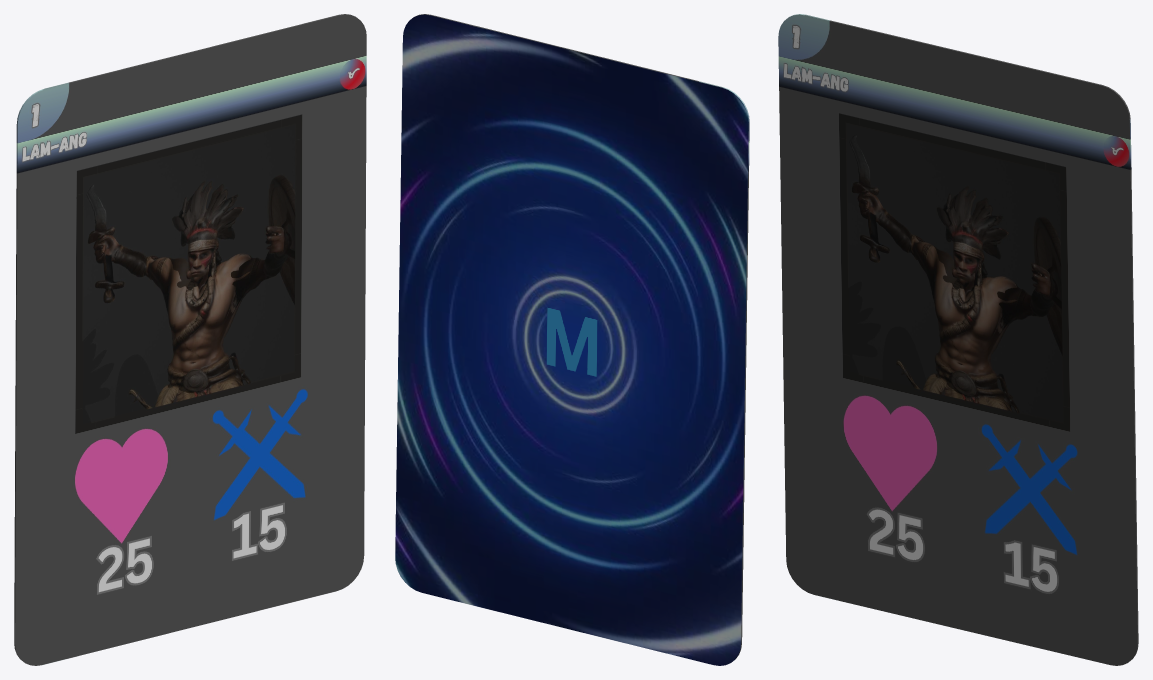
File: Lam-Ang.glb
The picture shows the model from 3 angles, left to right: view 1: azimuth 30°, elevation 25°; view 2: azimuth 150°, elevation 25°; view 3: azimuth 330°, elevation 25°; orthographic projection.
Parts seen in each view (by area): view 1: Card; view 2: Card; view 3: Card.
Part boxes in pixels (x1=…): Card: x1=14, y1=14, x2=366, y2=665; Card: x1=395, y1=14, x2=749, y2=665; Card: x1=778, y1=14, x2=1138, y2=665.
Bounding box in the file's own units: 0.0564 × 0.0891 × 0.00197.
2 materials, 2 textured.
